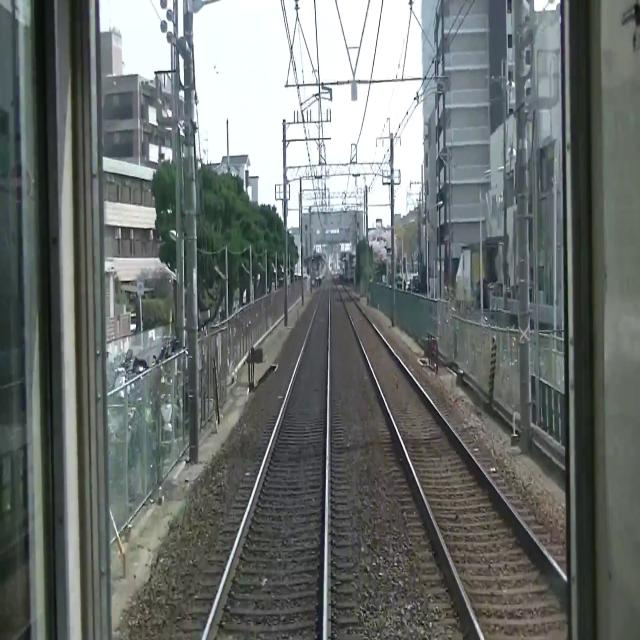rail-track: (333, 275, 516, 639), (206, 275, 329, 639)
